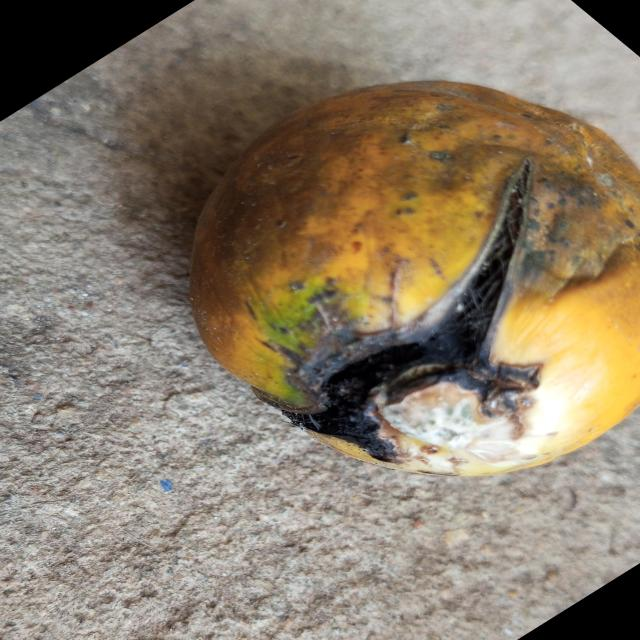damaged: (189, 80, 640, 481)
